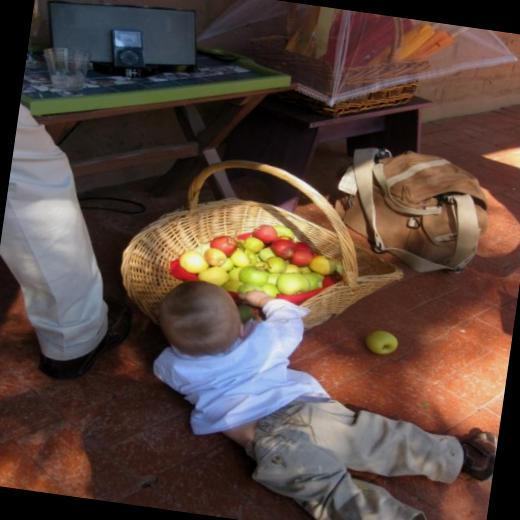Apple: (182, 221, 332, 306), (362, 328, 403, 356)
